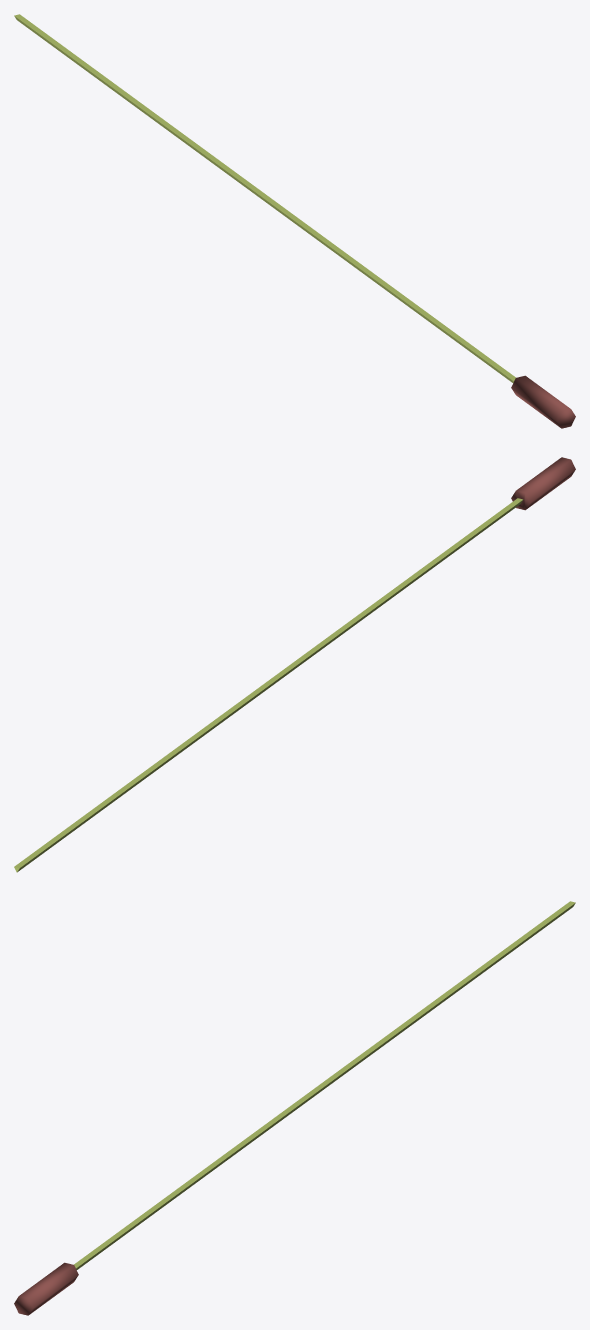
Rendered from tail.dae.
3 renders of one model, top to bottom at view 1: azimuth 30°, elevation 25°; view 2: azimuth 150°, elevation 25°; view 3: azimuth 330°, elevation 25°, orthographic.
Parts seen in each view (by area): view 1: mesh0%root%0%, mesh0%root%1%; view 2: mesh0%root%0%, mesh0%root%1%; view 3: mesh0%root%0%, mesh0%root%1%.
Boxes of the visible parts, x1=… form: mesh0%root%0%: x1=14, y1=14, x2=515, y2=382; mesh0%root%1%: x1=511, y1=375, x2=575, y2=428; mesh0%root%0%: x1=14, y1=498, x2=523, y2=872; mesh0%root%1%: x1=511, y1=457, x2=575, y2=510; mesh0%root%0%: x1=74, y1=901, x2=575, y2=1269; mesh0%root%1%: x1=14, y1=1262, x2=78, y2=1315.
Bounding box in the file's own units: 1.44 × 1.25 × 72.
